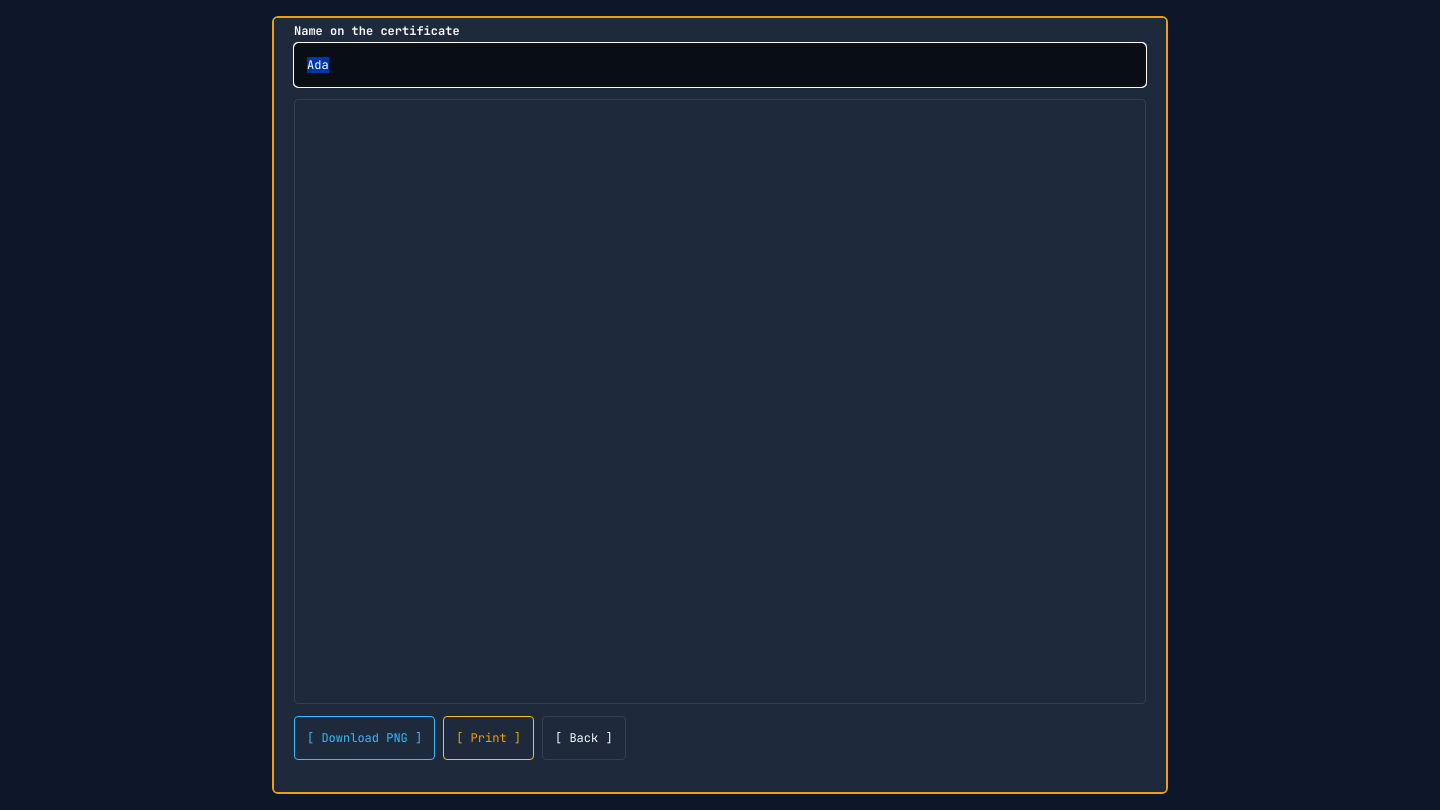
Test case: Certificate › [ Download PNG ] says so when the browser can't draw
(page scrolled)
Click the button "[ Download PNG ]" at point(365, 738), box x1=294 y1=716 x2=435 y2=760
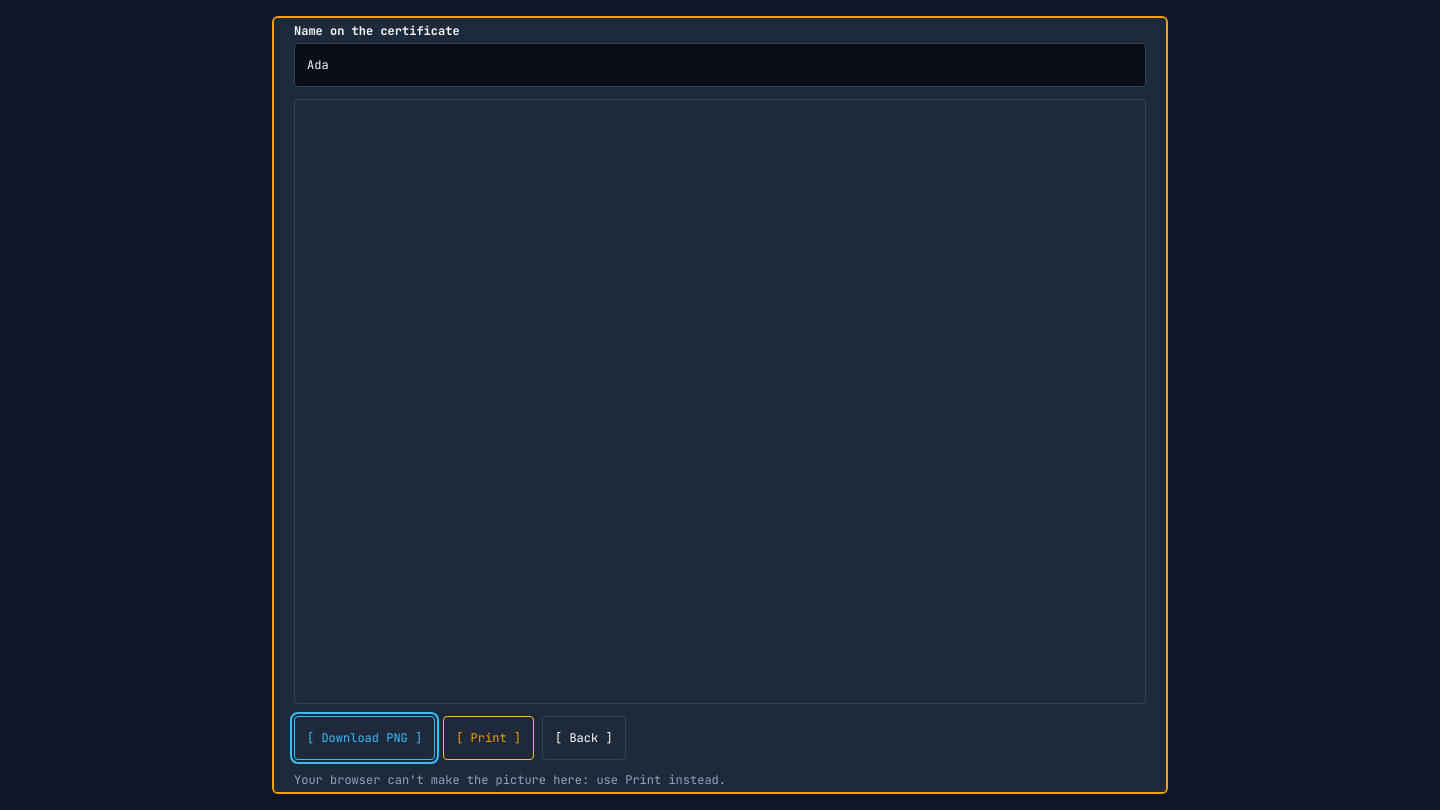
Now the message shows "use Print instead", box x1=294 y1=772 x2=726 y2=788
